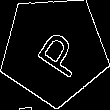P_NW: (24, 21, 84, 80)
